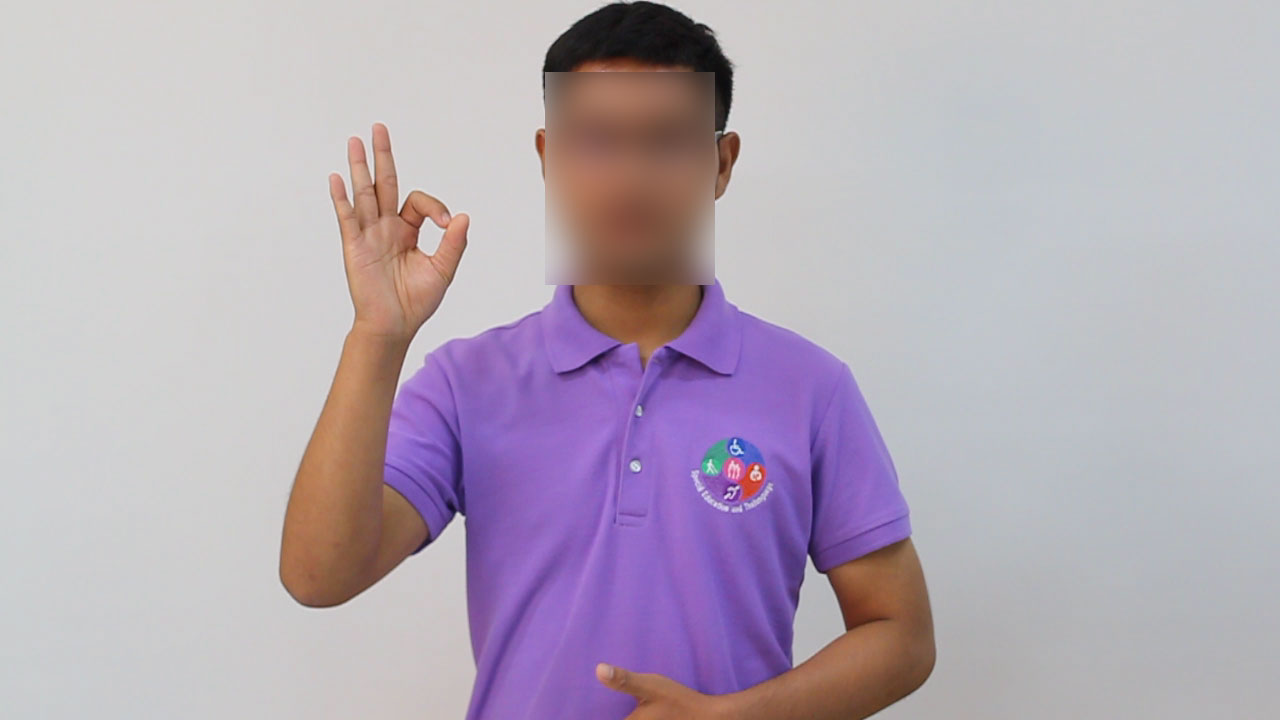for: (321, 105, 476, 368)
